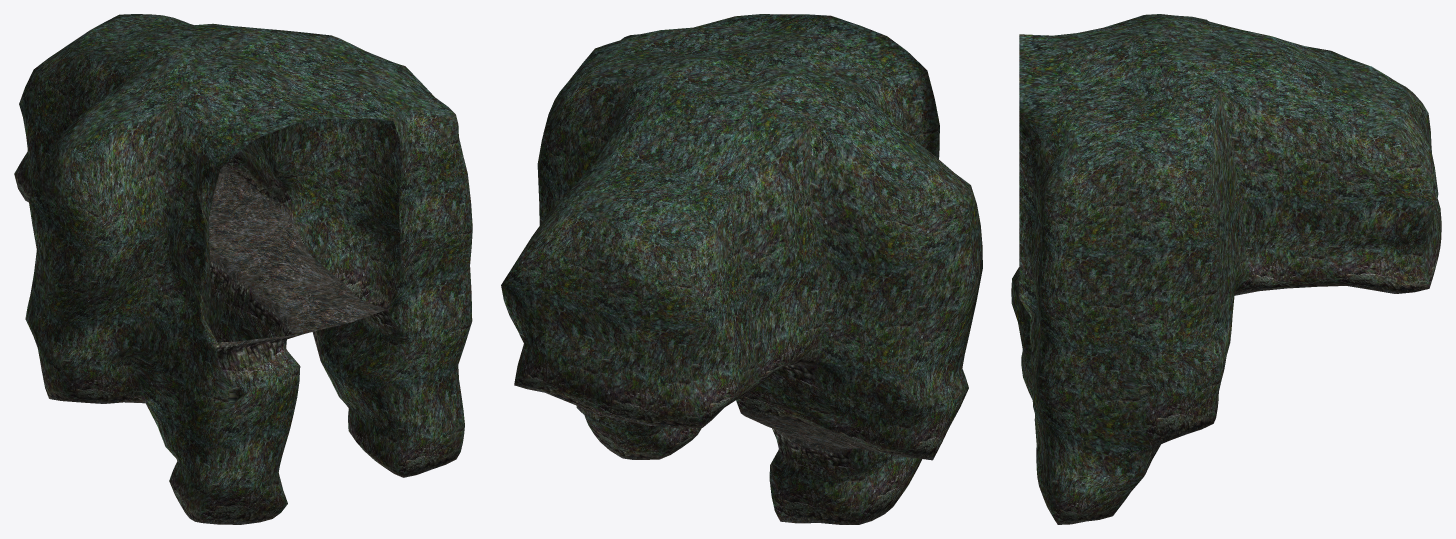
The model's file is thm_all_cave_flatland_s03_damprock_r29_mesh_29.fbx.
3 renders of one model, left to right at view 1: azimuth 30°, elevation 25°; view 2: azimuth 150°, elevation 25°; view 3: azimuth 270°, elevation 25°, orthographic. The views are drawn at different scales.
Parts seen in each view (by area): view 1: mesh_node; view 2: mesh_node; view 3: mesh_node.
Part boxes in pixels (x1,y1,x2,y2): mesh_node: (14, 14, 472, 524); mesh_node: (501, 14, 982, 524); mesh_node: (1011, 14, 1441, 524).
Size of the model in its own units: 40.79 by 45.08 by 41.15.
